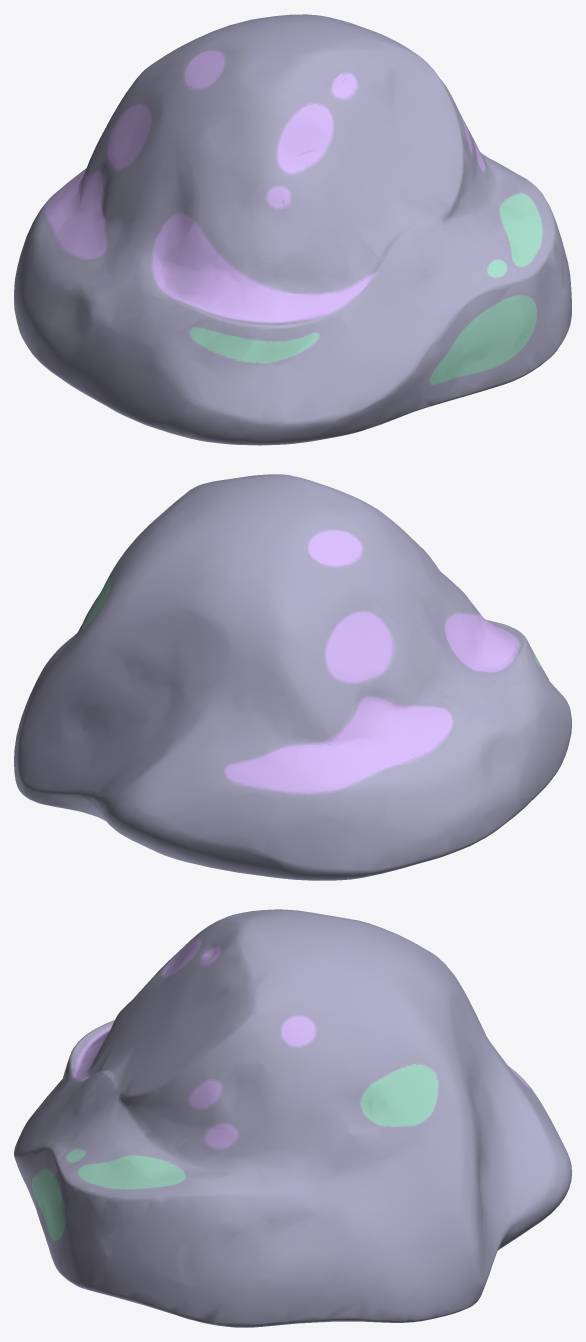
File: rock.glb
3 renders of one model, top to bottom at view 1: azimuth 30°, elevation 25°; view 2: azimuth 150°, elevation 25°; view 3: azimuth 270°, elevation 25°, orthographic. The views are drawn at different scales.
Visible parts, largest first — view 1: Mesh_0; view 2: Mesh_0; view 3: Mesh_0.
Boxes of the visible parts, x1,y1,x2,y2 form: Mesh_0: (14, 14, 571, 445); Mesh_0: (14, 474, 571, 880); Mesh_0: (14, 909, 571, 1327).
Size of the model in its own units: 1.87 by 1.14 by 1.9.
1 material, 1 textured.
